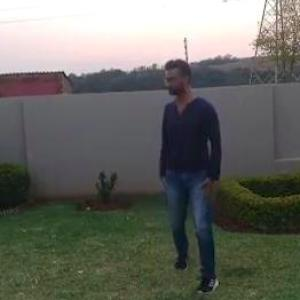follow: (160, 51, 228, 293)
